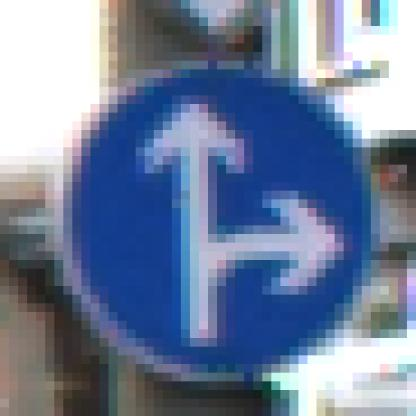Straight or Right: (55, 53, 372, 374)
